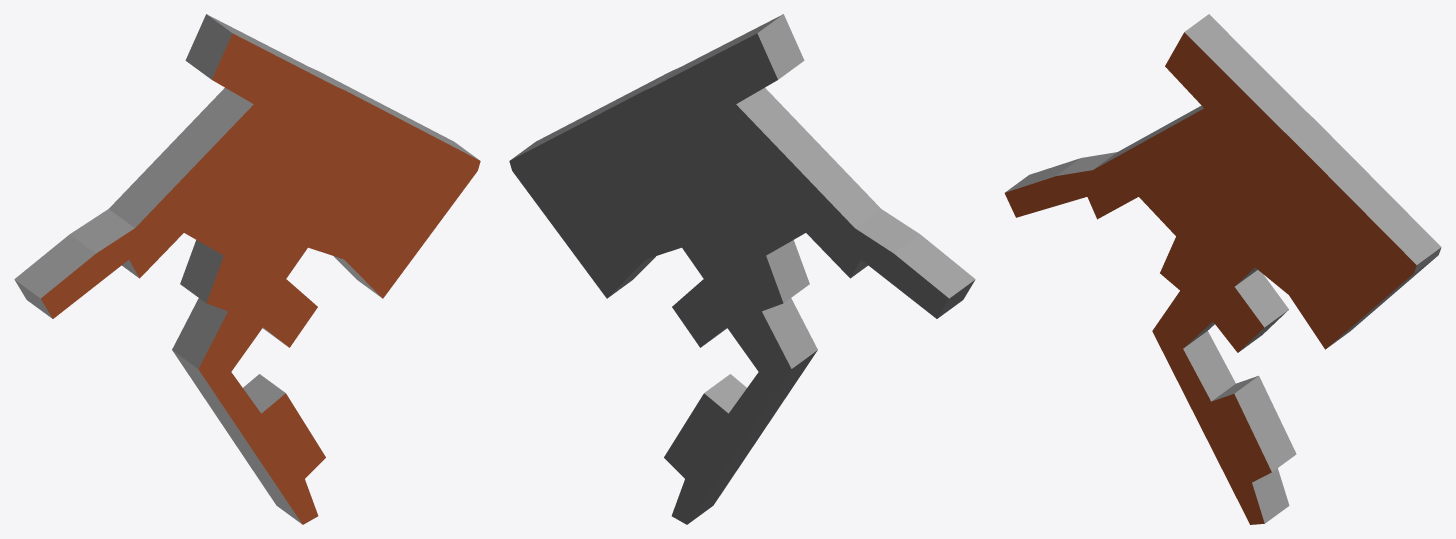
File: construction_7109_assumed_A_Casa_h6m.obj
The picture shows the model from 3 angles, left to right: view 1: azimuth 30°, elevation 25°; view 2: azimuth 150°, elevation 25°; view 3: azimuth 330°, elevation 25°; orthographic projection. The views are drawn at different scales.
Visible parts, largest first — view 1: construction_7109_assumed_A_Casa; view 2: construction_7109_assumed_A_Casa; view 3: construction_7109_assumed_A_Casa.
Boxes of the visible parts, box(x1,y1,x2,y2) form: construction_7109_assumed_A_Casa: box(14, 14, 480, 524); construction_7109_assumed_A_Casa: box(509, 14, 975, 524); construction_7109_assumed_A_Casa: box(1004, 14, 1441, 524).
Size of the model in its own units: 57.78 by 63.84 by 6.
